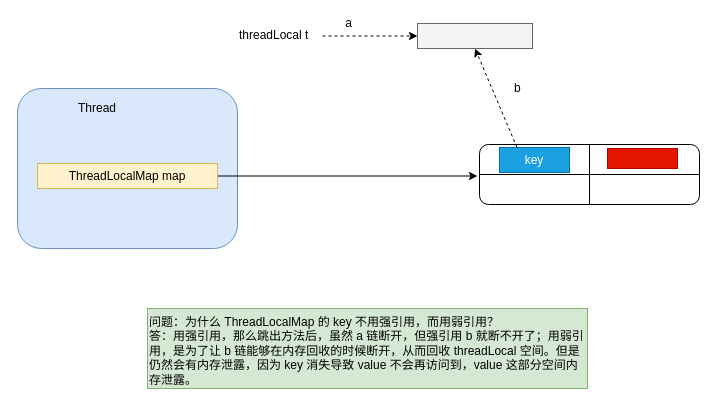
Some shapes in this 718 by 407 pixel diagram are drawn without their labels. The shapes that lost their labels are listed below. From the top down, each one's centre as x and y in pixels, then its label:
At pixel 474 35: "threadLocal空间".
At pixel 642 158: "value".
